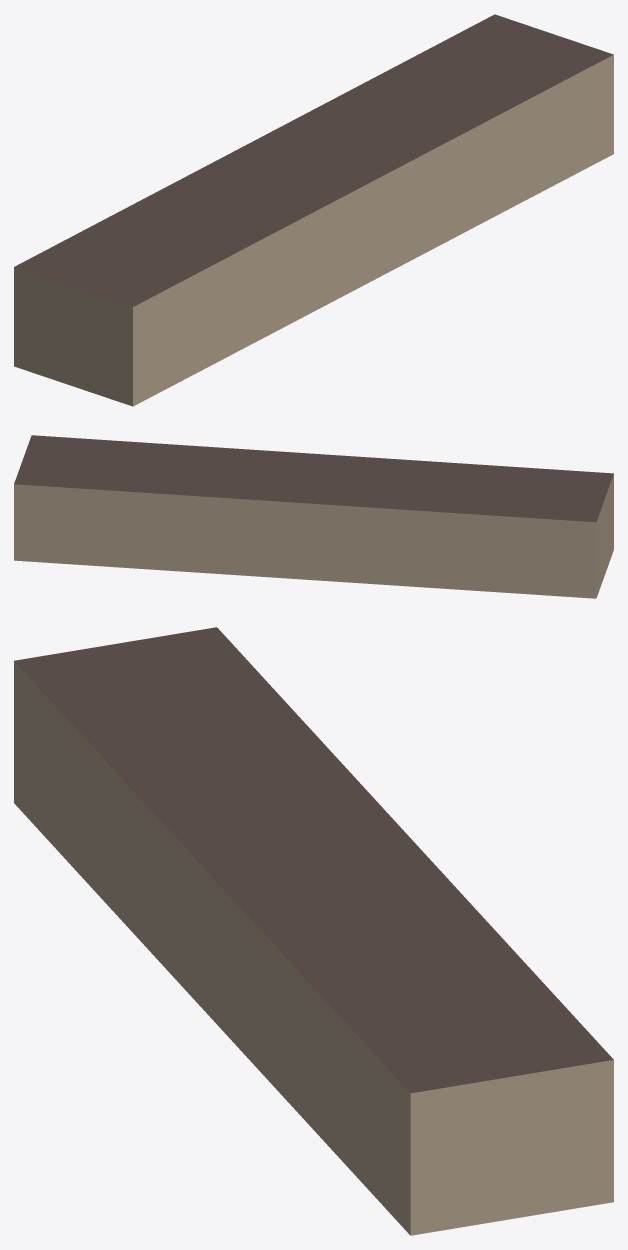
The picture shows the model from 3 angles, top to bottom: view 1: azimuth 30°, elevation 25°; view 2: azimuth 150°, elevation 25°; view 3: azimuth 270°, elevation 25°; orthographic projection. The views are drawn at different scales.
Parts seen in each view (by area): view 1: HP-w1287259398; view 2: HP-w1287259398; view 3: HP-w1287259398.
Boxes of the visible parts, <box> form: HP-w1287259398: <box>14,14,613,406</box>; HP-w1287259398: <box>14,435,613,598</box>; HP-w1287259398: <box>14,627,613,1235</box>.
Size of the model in its own units: 63.2 by 9 by 34.37.
